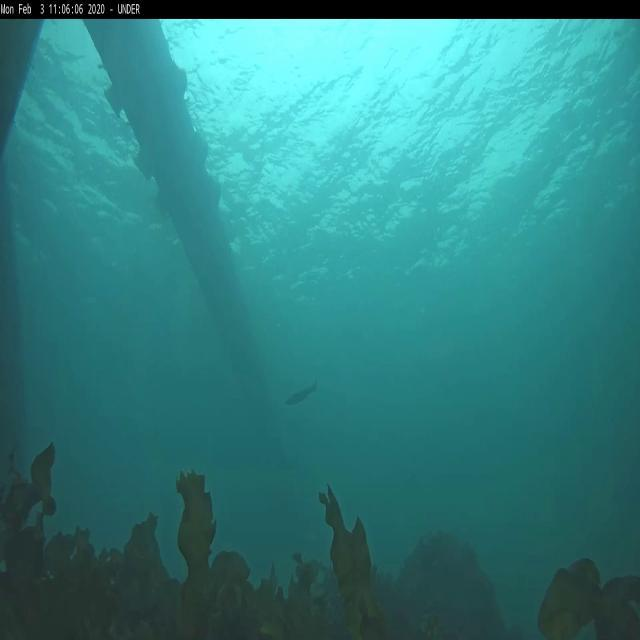fish: (285, 384, 317, 404)
